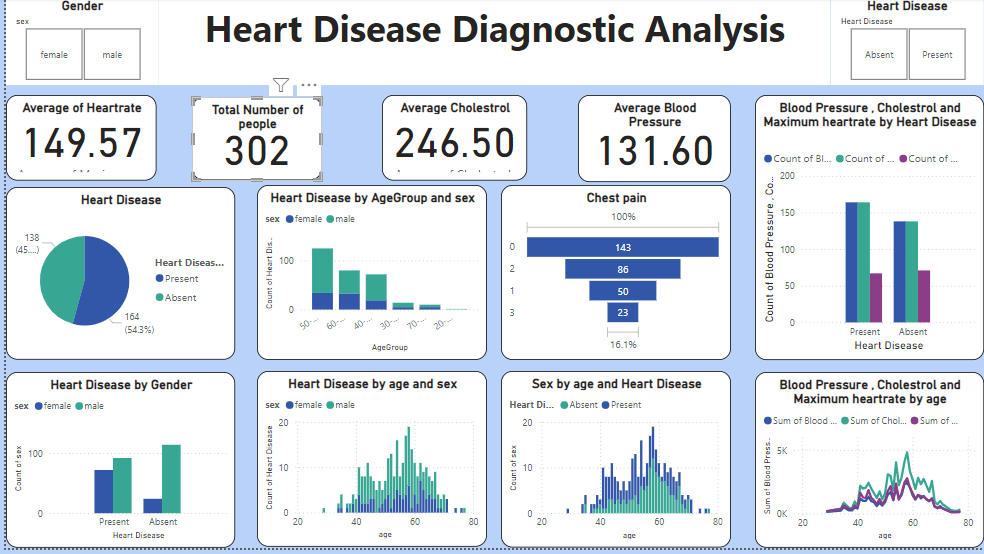

This screenshot's page, from the dashboard's own definition file:
{"tool":"powerbi","page":{"name":"Page 1","canvas":[1280,720],"ordinal":0},"visuals":[{"type":"clusteredColumnChart","title":"Heart Disease  by Gender","fields":{"Category":["Heart Disease cleaned data - Heart Disease cleaned data xls.target"],"Y":["CountNonNull(Heart Disease cleaned data - Heart Disease cleaned data xls.sex)"],"Series":["Heart Disease cleaned data - Heart Disease cleaned data xls.sex"]},"box":[0,490,300,229.8],"z":0},{"type":"columnChart","title":"Heart Disease  by age and sex","fields":{"Y":["CountNonNull(Heart Disease cleaned data - Heart Disease cleaned data xls.target)"],"Series":["Heart Disease cleaned data - Heart Disease cleaned data xls.sex"],"Category":["Heart Disease cleaned data - Heart Disease cleaned data xls.age"]},"box":[328.3,488.2,301,230.4],"z":1000},{"type":"slicer","title":"Gender ","fields":{"Values":["Heart Disease cleaned data - Heart Disease cleaned data xls.sex"]},"box":[0,0,200.2,113.8],"z":2000},{"type":"textbox","box":[200,0,879,113.8],"z":3000},{"type":"columnChart","title":"Sex by age and Heart Disease ","fields":{"Category":["Heart Disease cleaned data - Heart Disease cleaned data xls.age"],"Y":["CountNonNull(Heart Disease cleaned data - Heart Disease cleaned data xls.sex)"],"Series":["Heart Disease cleaned data - Heart Disease cleaned data xls.target"]},"box":[648.3,488.6,301.4,231.2],"z":4000},{"type":"card","title":"Total Number of people ","fields":{"Values":["CountNonNull(Heart Disease cleaned data - Heart Disease cleaned data xls.target)"]},"box":[243.4,129.6,169.9,109.4],"z":5000},{"type":"slicer","title":"Heart Disease ","fields":{"Values":["Heart Disease cleaned data - Heart Disease cleaned data xls.target"]},"box":[1080,0,200.2,113.8],"z":6000},{"type":"columnChart","title":"Heart Disease  by AgeGroup and sex","fields":{"Category":["Heart Disease cleaned data - Heart Disease cleaned data xls.AgeGroup"],"Y":["CountNonNull(Heart Disease cleaned data - Heart Disease cleaned data xls.target)"],"Series":["Heart Disease cleaned data - Heart Disease cleaned data xls.sex"]},"box":[328.6,244.8,301.1,229.1],"z":7000},{"type":"funnel","title":"Chest pain ","fields":{"Y":["CountNonNull(Heart Disease cleaned data - Heart Disease cleaned data xls.cp)"],"Category":["Heart Disease cleaned data - Heart Disease cleaned data xls.cp"]},"box":[648,244.8,301,229],"z":8000},{"type":"lineChart","title":" Blood Pressure , Cholestrol  and Maximum heartrate by age","fields":{"Category":["Heart Disease cleaned data - Heart Disease cleaned data xls.age"],"Y":["Sum(Heart Disease cleaned data - Heart Disease cleaned data xls.Blood Pressure )","Sum(Heart Disease cleaned data - Heart Disease cleaned data xls.Cholestrol )","Sum(Heart Disease cleaned data - Heart Disease cleaned data xls.Maximum heartrate)"]},"box":[980.6,489.6,299.5,230.4],"z":9000},{"type":"clusteredColumnChart","title":" Blood Pressure , Cholestrol  and  Maximum heartrate by Heart Disease ","fields":{"Category":["Heart Disease cleaned data - Heart Disease cleaned data xls.target"],"Y":["CountNonNull(Heart Disease cleaned data - Heart Disease cleaned data xls.Blood Pressure )","CountNonNull(Heart Disease cleaned data - Heart Disease cleaned data xls.Cholestrol )","Count(Heart Disease cleaned data - Heart Disease cleaned data xls.Maximum heartrate)"]},"box":[980.6,126.7,299.5,347],"z":10000},{"type":"card","title":"Average Cholestrol","fields":{"Values":["Avg(Heart Disease cleaned data - Heart Disease cleaned data xls.Cholestrol )"]},"box":[492.5,126.7,190.1,112.3],"z":11000},{"type":"card","title":"Average Blood Pressure ","fields":{"Values":["Avg(Heart Disease cleaned data - Heart Disease cleaned data xls.Blood Pressure )"]},"box":[748.8,126.7,200.2,113.8],"z":12000},{"type":"card","title":"Average of Heartrate ","fields":{"Values":["Avg(Heart Disease cleaned data - Heart Disease cleaned data xls.Maximum heartrate)"]},"box":[0,126.7,197.3,112.3],"z":13000},{"type":"pieChart","title":"Heart Disease","fields":{"Y":["CountNonNull(Heart Disease cleaned data - Heart Disease cleaned data xls.target)"],"Category":["Heart Disease cleaned data - Heart Disease cleaned data xls.target"]},"box":[0,247.4,299.8,226.5],"z":14000}]}

Visuals, with their boxes in screenshot pixels (x1, y1, x2, y2), scaled from the page's 1280x720 canvas onto the 984x554 screenshot:
"Heart Disease  by Gender" clusteredColumnChart: select_region(0, 377, 231, 553)
"Heart Disease  by age and sex" columnChart: select_region(252, 376, 484, 553)
"Gender " slicer: select_region(0, 0, 154, 88)
textbox: select_region(154, 0, 829, 88)
"Sex by age and Heart Disease " columnChart: select_region(498, 376, 730, 553)
"Total Number of people " card: select_region(187, 100, 318, 184)
"Heart Disease " slicer: select_region(830, 0, 983, 88)
"Heart Disease  by AgeGroup and sex" columnChart: select_region(253, 188, 484, 365)
"Chest pain " funnel: select_region(498, 188, 730, 365)
" Blood Pressure , Cholestrol  and Maximum heartrate by age" lineChart: select_region(754, 377, 983, 553)
" Blood Pressure , Cholestrol  and  Maximum heartrate by Heart Disease " clusteredColumnChart: select_region(754, 97, 983, 364)
"Average Cholestrol" card: select_region(379, 97, 525, 184)
"Average Blood Pressure " card: select_region(576, 97, 730, 185)
"Average of Heartrate " card: select_region(0, 97, 152, 184)
"Heart Disease" pieChart: select_region(0, 190, 230, 365)
